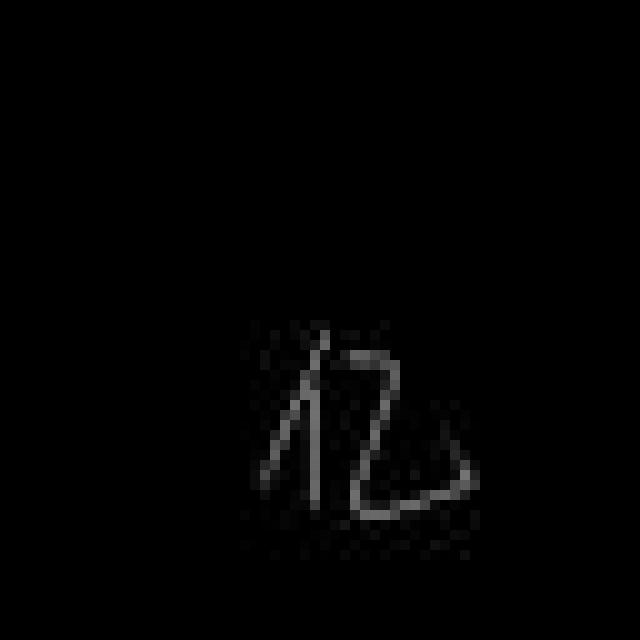100000 -a hundred thousand-: (245, 322, 487, 536)
